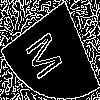M: (24, 25, 69, 83)
